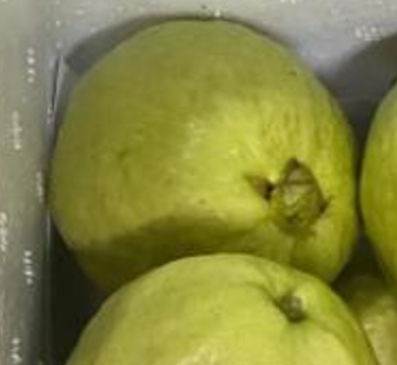guava_A: (46, 20, 364, 299)
